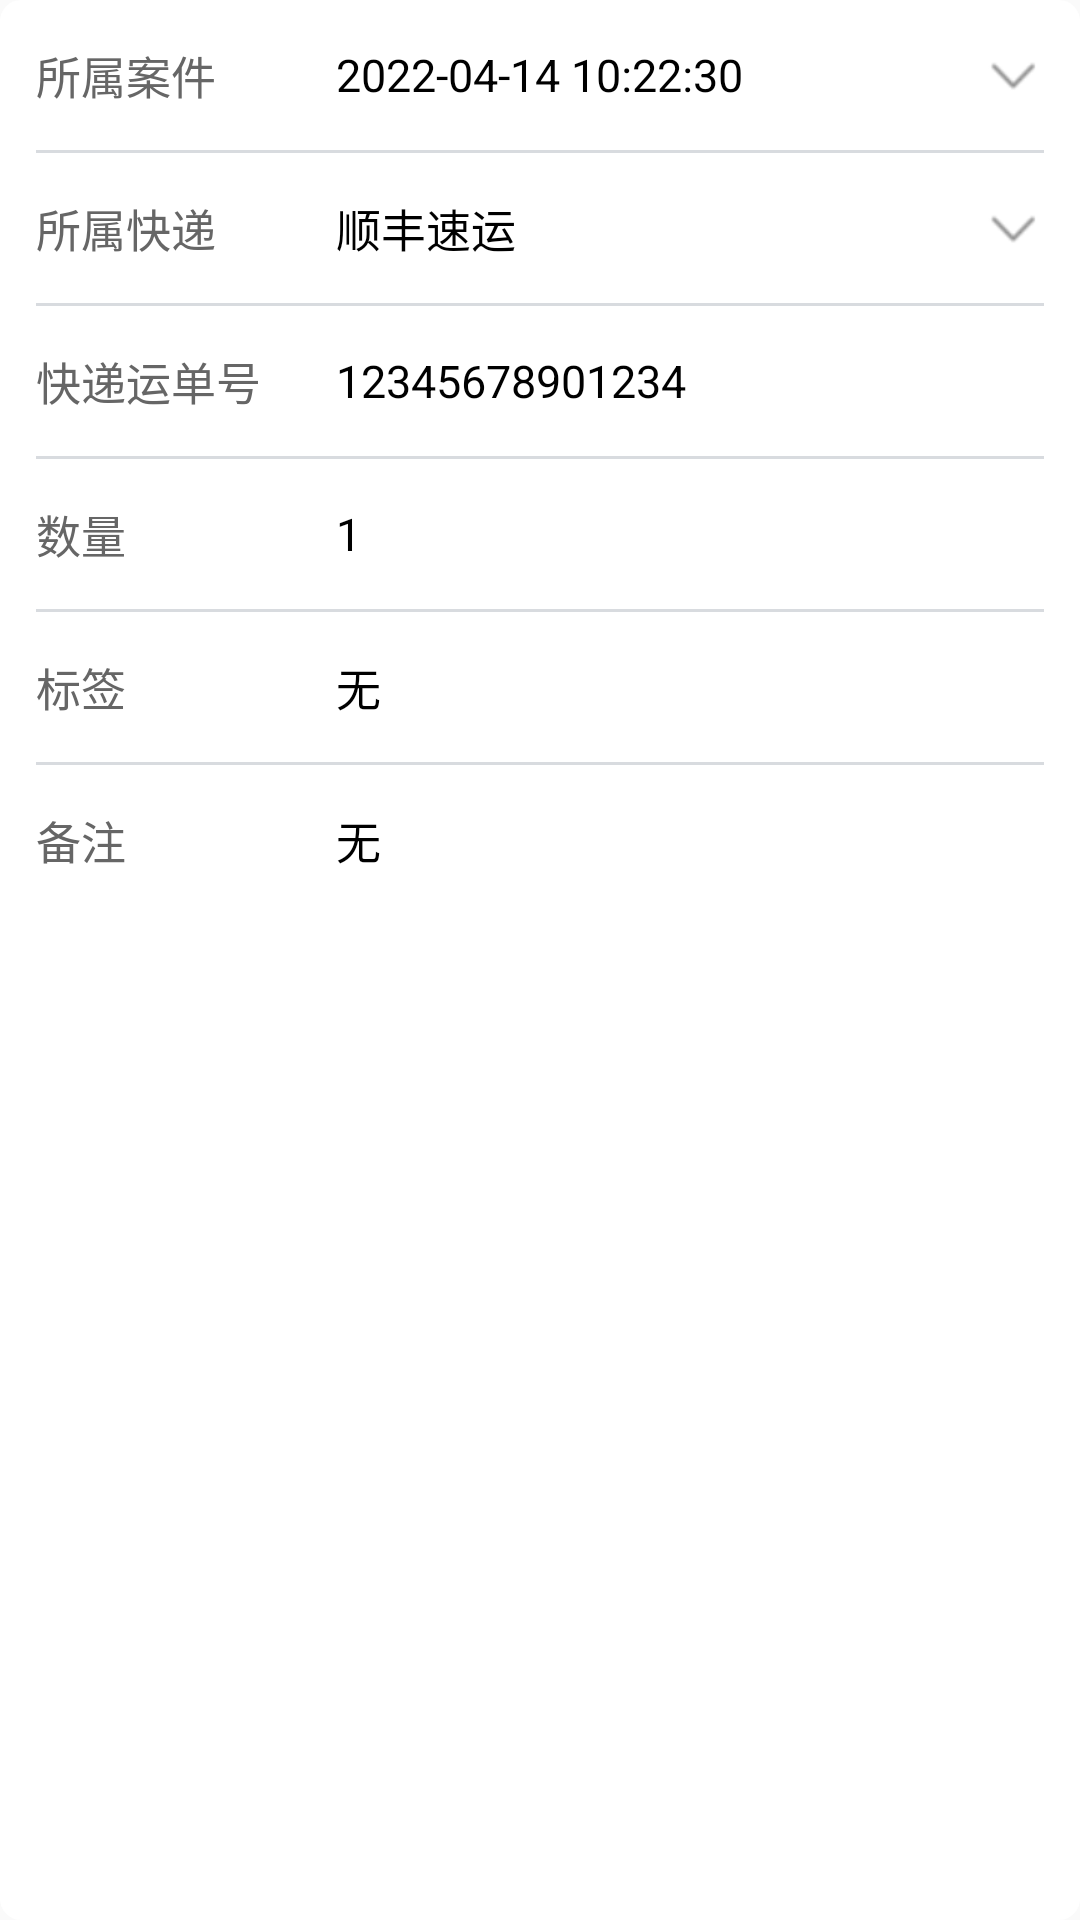

Point at icon controls on the screen. Image size 1080×1920, points as (x,y).
arrow down: (1013,76), (1013,229)
